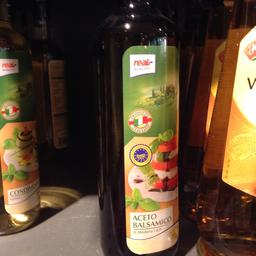vinegar: (98, 0, 183, 255), (0, 22, 40, 239)
